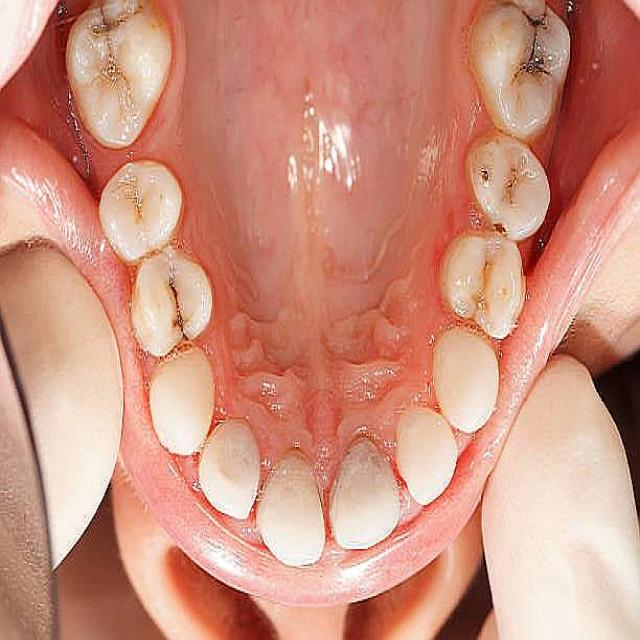caries: (505, 4, 566, 99), (150, 264, 200, 351), (84, 0, 143, 71), (502, 152, 532, 211), (488, 212, 518, 254), (478, 156, 501, 203)
